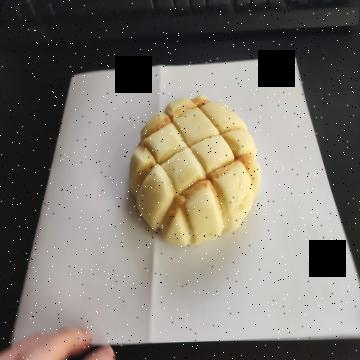melon_bread: (128, 95, 261, 250)
